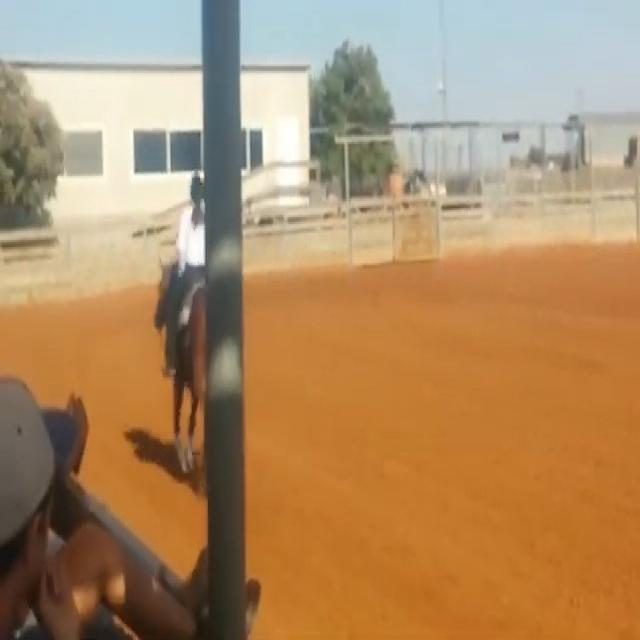horse: (152, 254, 209, 476)
